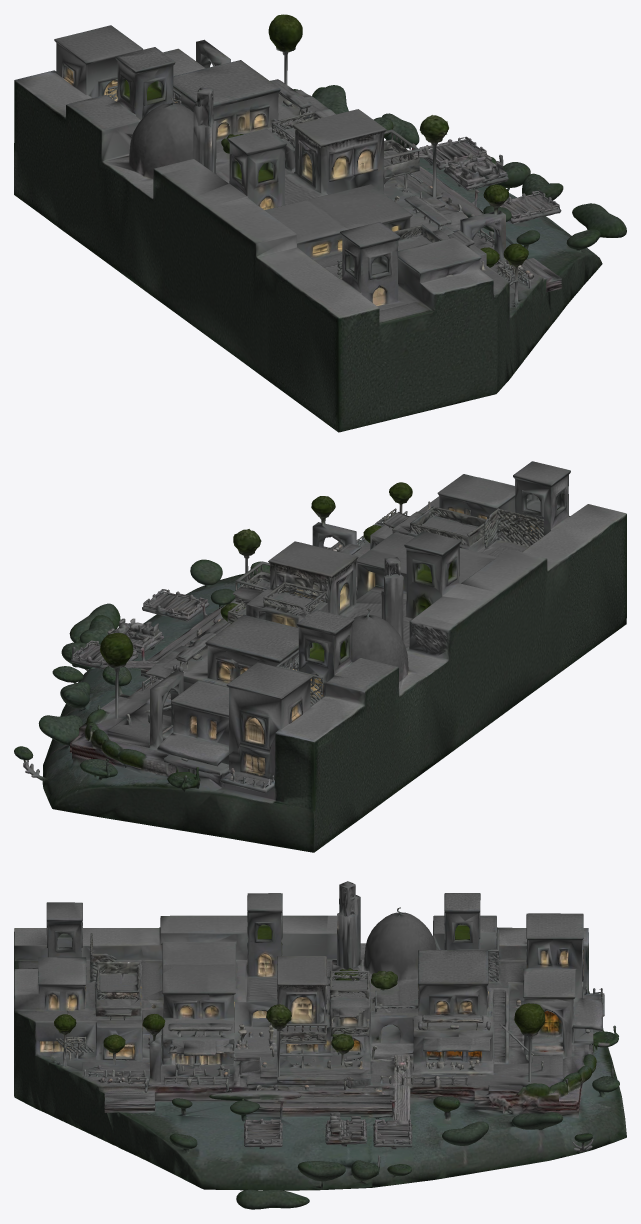
File: diorama_lod1.glb
3 views of the same model, one above another, from view 1: azimuth 30°, elevation 25°; view 2: azimuth 150°, elevation 25°; view 3: azimuth 270°, elevation 25° (orthographic). The views are drawn at different scales.
Parts seen in each view (by area): view 1: tripo_node_d4d403ca-c68f-4391-b229-f40cb69f2f81; view 2: tripo_node_d4d403ca-c68f-4391-b229-f40cb69f2f81; view 3: tripo_node_d4d403ca-c68f-4391-b229-f40cb69f2f81.
Part boxes in pixels (box(x1,y1,x2,y2)): tripo_node_d4d403ca-c68f-4391-b229-f40cb69f2f81: box(14, 14, 626, 432); tripo_node_d4d403ca-c68f-4391-b229-f40cb69f2f81: box(14, 461, 626, 852); tripo_node_d4d403ca-c68f-4391-b229-f40cb69f2f81: box(14, 881, 626, 1209).
Bounding box in the file's own units: 57.42 × 24.99 × 81.78.
1 material, 1 textured.
